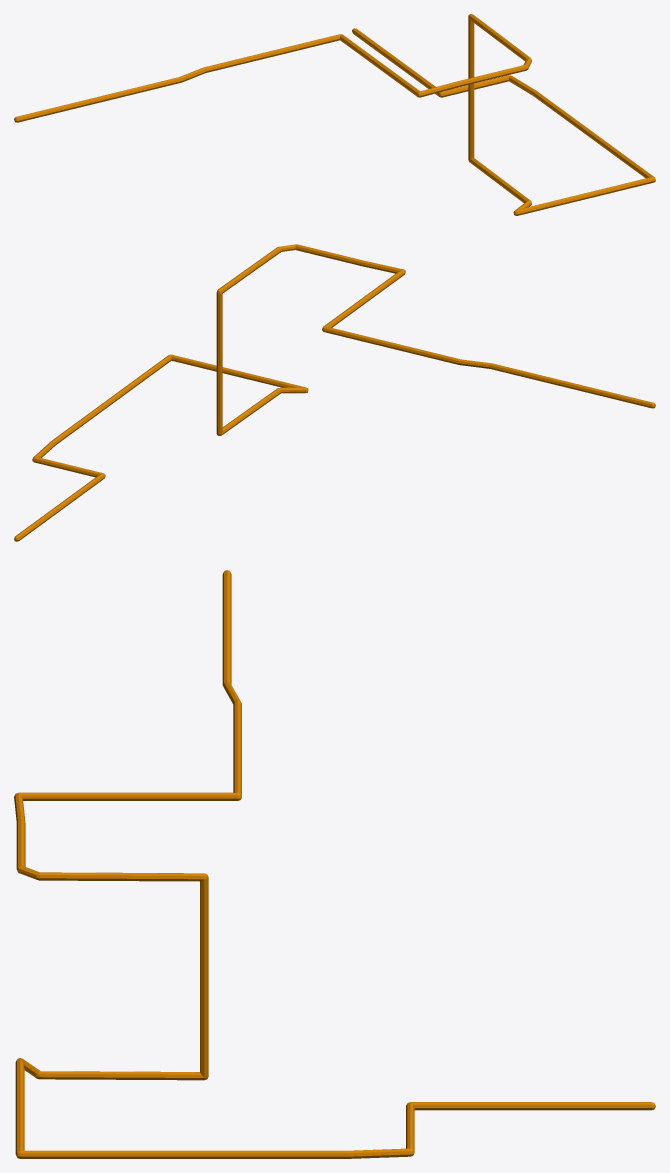
3 renders of one model, top to bottom at view 1: azimuth 30°, elevation 25°; view 2: azimuth 150°, elevation 25°; view 3: azimuth 270°, elevation 25°, orthographic. The views are drawn at different scales.
Size of the model in its own units: 2079 by 520 by 1463.
